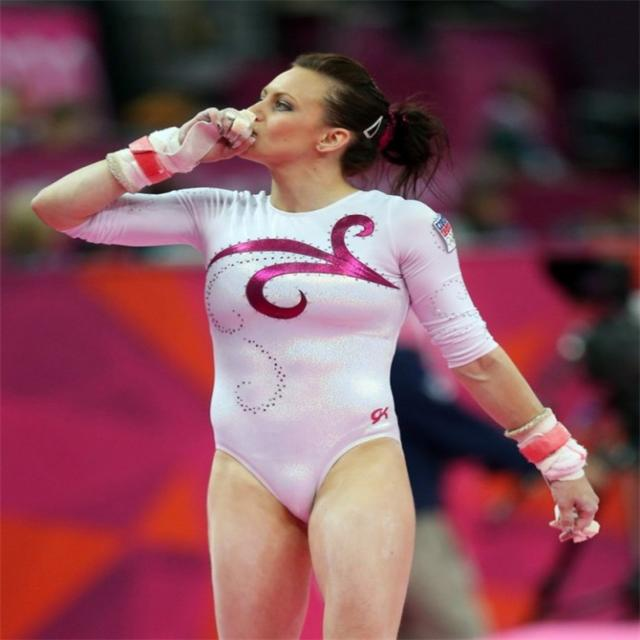nomask: (234, 64, 322, 158)
